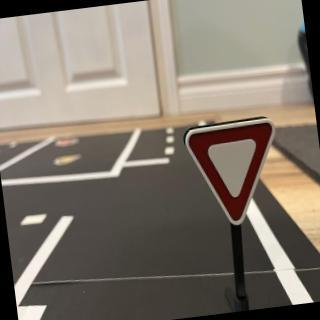sign_yield: (184, 117, 289, 234)
